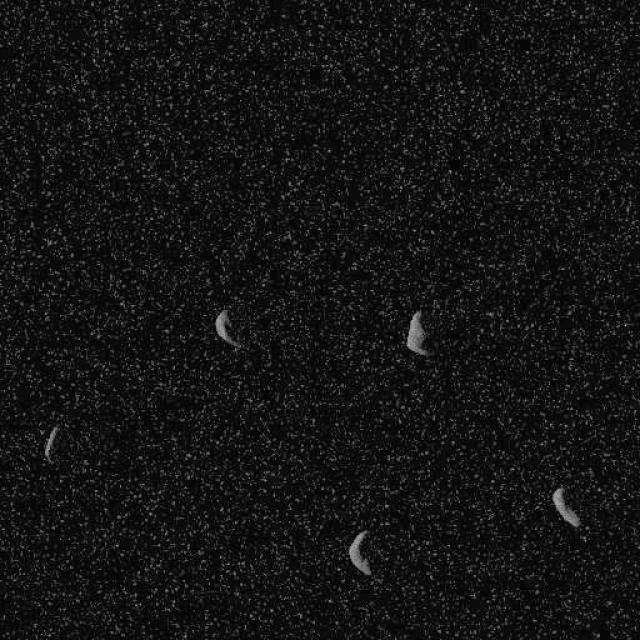D2: (550, 485, 581, 529), (403, 309, 432, 356), (214, 308, 242, 350), (348, 529, 372, 576), (42, 425, 58, 463)
